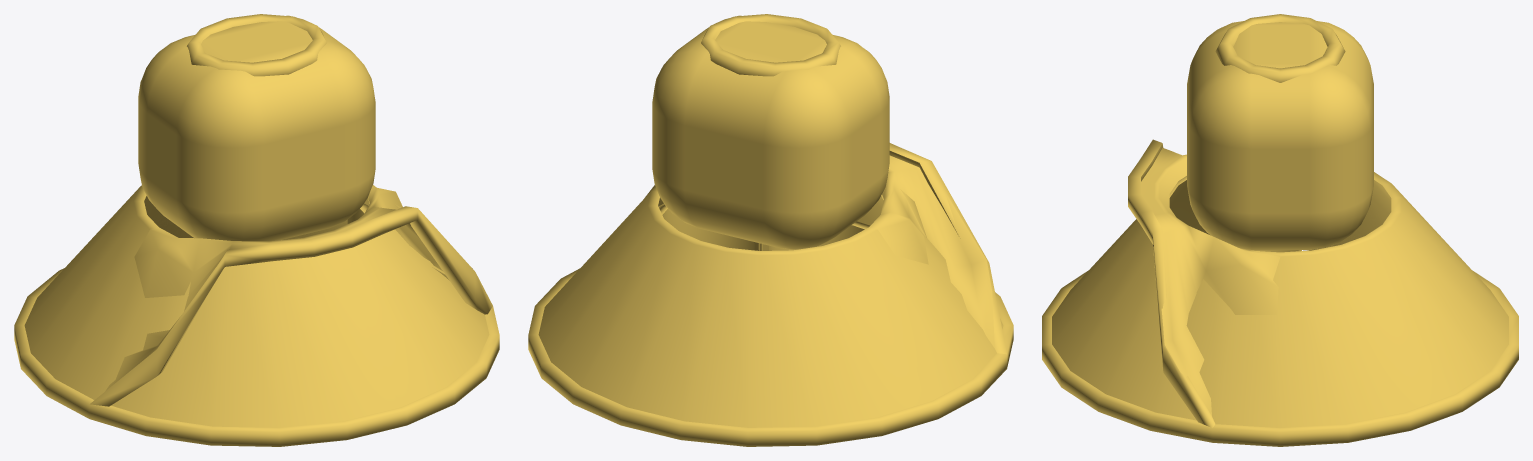
The model's file is baby_chick_costume.glb.
3 views of the same model, side by side, from view 1: azimuth 30°, elevation 25°; view 2: azimuth 150°, elevation 25°; view 3: azimuth 270°, elevation 25° (orthographic).
Visible parts, largest first — view 1: baby_chick_costume_Body, baby_chick_costume_Body_sit; view 2: baby_chick_costume_Body, baby_chick_costume_Body_sit, baby_chick_costume_LegR_sit, baby_chick_costume_LegL_sit; view 3: baby_chick_costume_Body, baby_chick_costume_Body_sit.
Boxes of the visible parts, x1,y1,x2,y2 form: baby_chick_costume_Body: (14,14,499,446); baby_chick_costume_Body_sit: (90,43,492,406); baby_chick_costume_Body: (528,14,1013,446); baby_chick_costume_Body_sit: (645,48,1006,354); baby_chick_costume_LegR_sit: (659,203,762,250); baby_chick_costume_LegL_sit: (758,221,869,250); baby_chick_costume_Body: (1042,14,1518,446); baby_chick_costume_Body_sit: (1128,70,1388,427).
Bounding box in the file's own units: 0.748 × 0.5289 × 0.7404.
